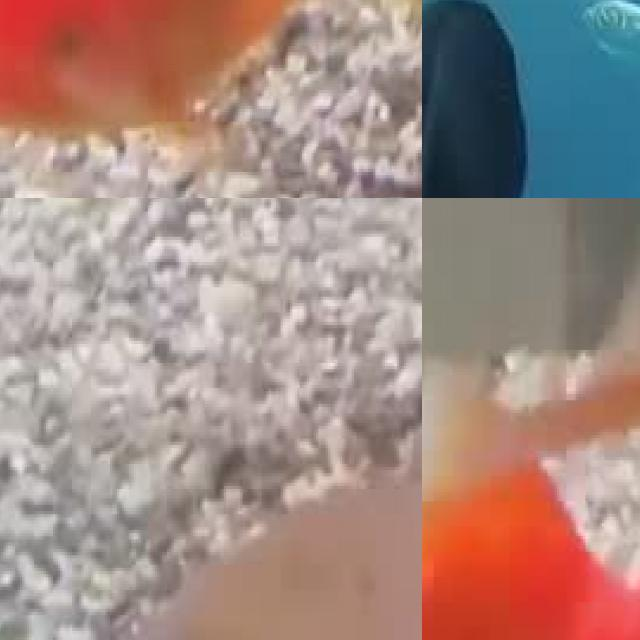fish: (0, 0, 422, 198), (0, 546, 422, 640)
